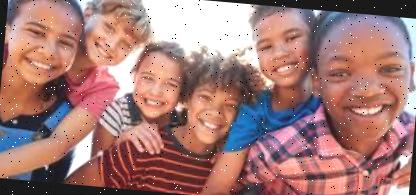person: (249, 4, 416, 195), (127, 38, 267, 195), (228, 3, 340, 160), (0, 0, 93, 184), (64, 0, 152, 155), (96, 32, 188, 166)
